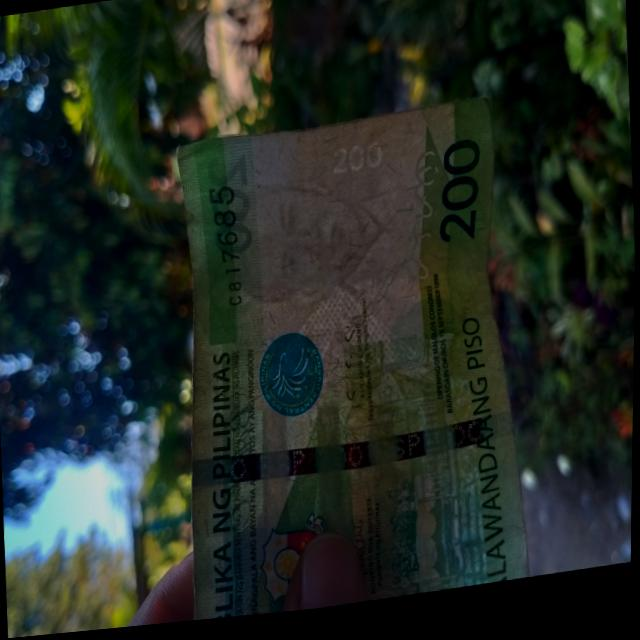security_thread: (190, 414, 515, 492)
see_through_mark: (395, 146, 450, 320)
serial_number: (203, 191, 248, 313)
value_watermark: (326, 144, 390, 186)
watermark: (230, 162, 410, 344)
